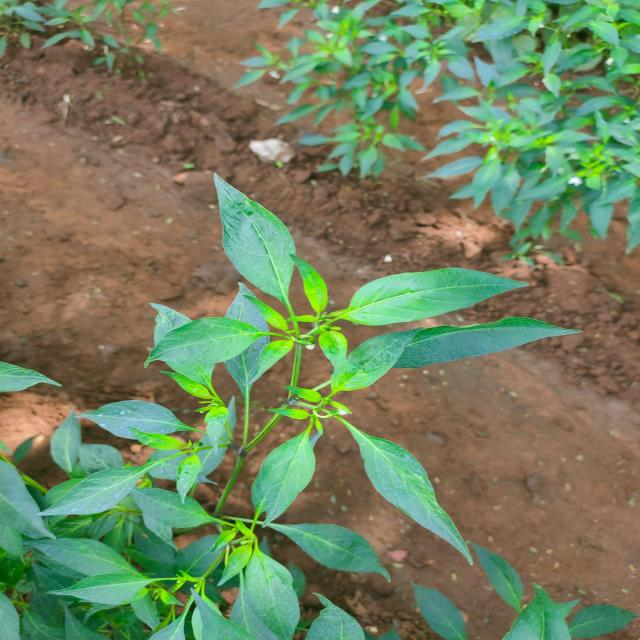Mosaic_virus: (0, 225, 565, 640), (254, 4, 640, 229)
